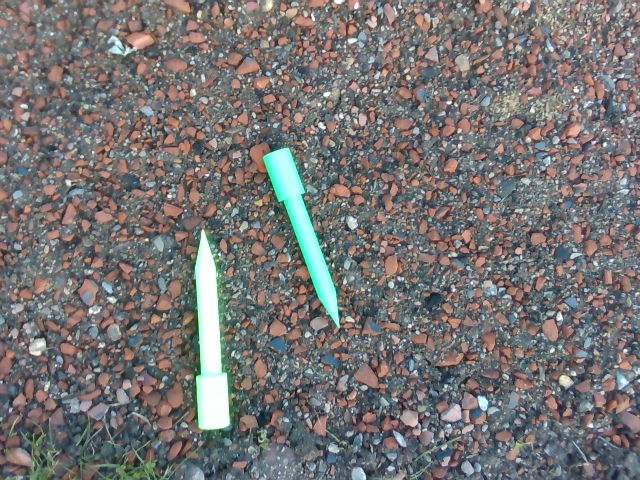Probe: (259, 140, 346, 334), (189, 224, 231, 437)
